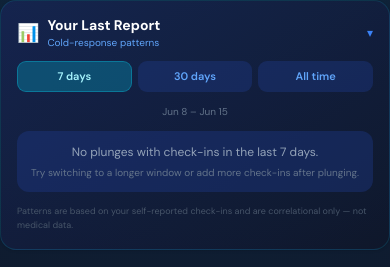
Test: DiscoveryReportCard — All-time tab with plunges spanning multiple years › 30-day tab is blank when all sessions are older than 30 days
This screenshot has width=390, height=267.
Click the button "30 days" at coordinates (195, 76), box [138,61,252,92]
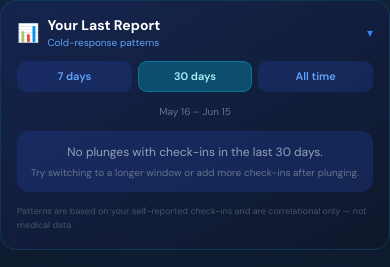
Expected: the text "No plunges with check-ins in the last 30 days." is shown, [67,144,323,160]
